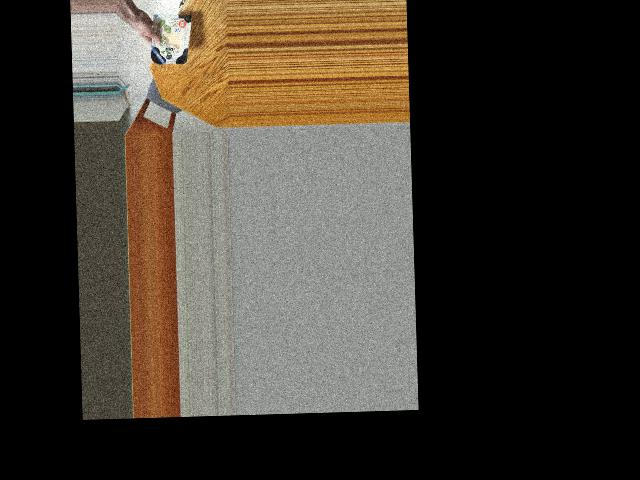cheese: (146, 4, 186, 71)
